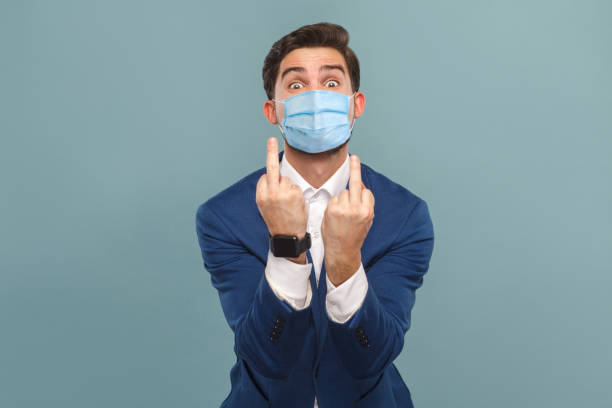insulting_gesture: (253, 135, 313, 238), (321, 152, 378, 259)
